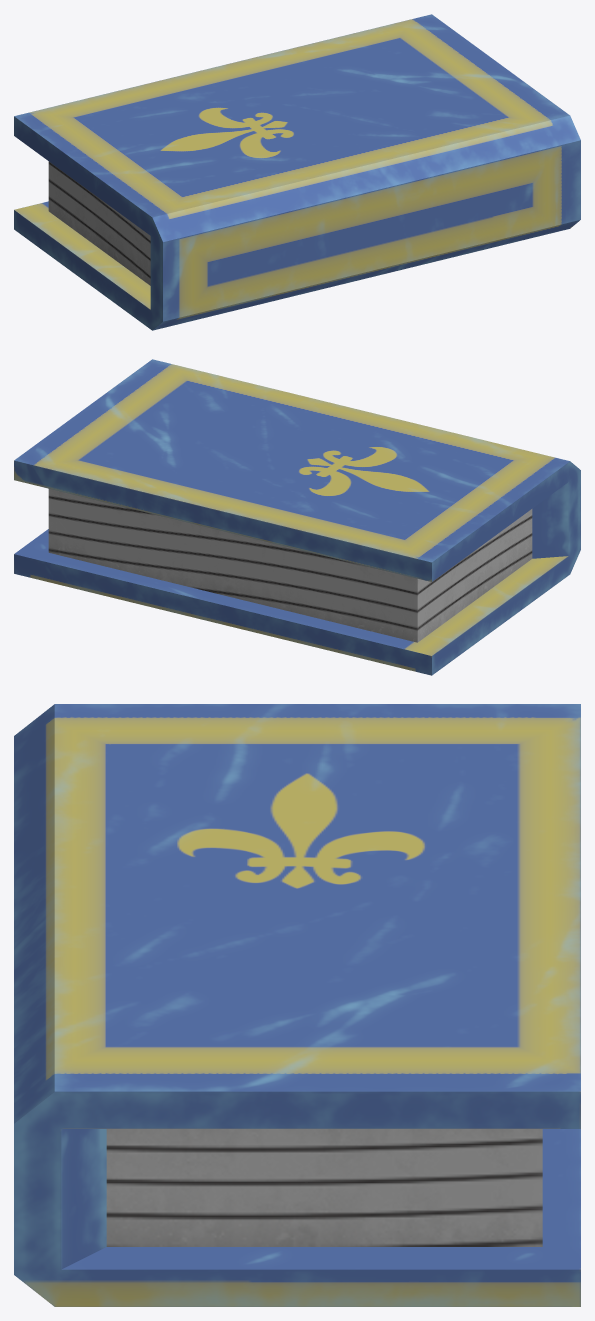
File: book_blue.fbx
3 renders of one model, top to bottom at view 1: azimuth 30°, elevation 25°; view 2: azimuth 150°, elevation 25°; view 3: azimuth 270°, elevation 25°, orthographic. The views are drawn at different scales.
Parts seen in each view (by area): view 1: Cube.008; view 2: Cube.008; view 3: Cube.008.
Boxes of the visible parts, box(x1,y1,x2,y2) form: Cube.008: box(14, 14, 580, 330); Cube.008: box(14, 359, 580, 675); Cube.008: box(14, 704, 580, 1306).
Size of the model in its own units: 324 by 83.77 by 200.
